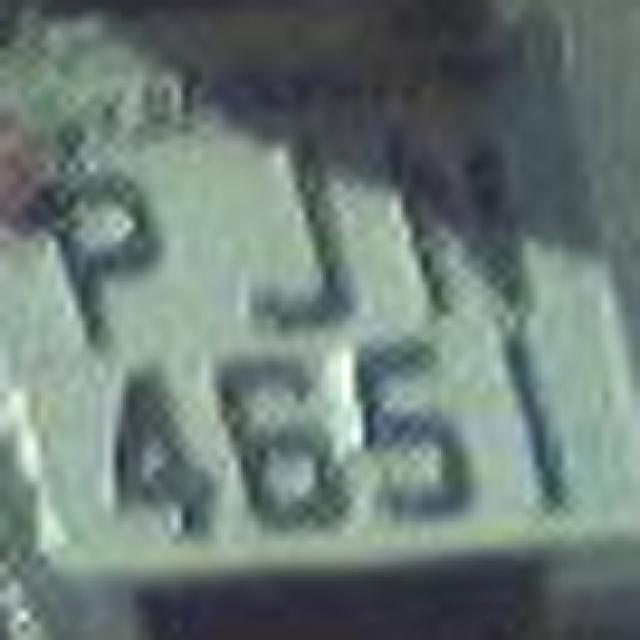1: (485, 311, 580, 524)
4: (76, 329, 216, 556)
5: (332, 332, 480, 532)
6: (200, 331, 355, 544)
J: (232, 132, 356, 348)
N: (404, 124, 556, 351)
P: (16, 140, 176, 352)
